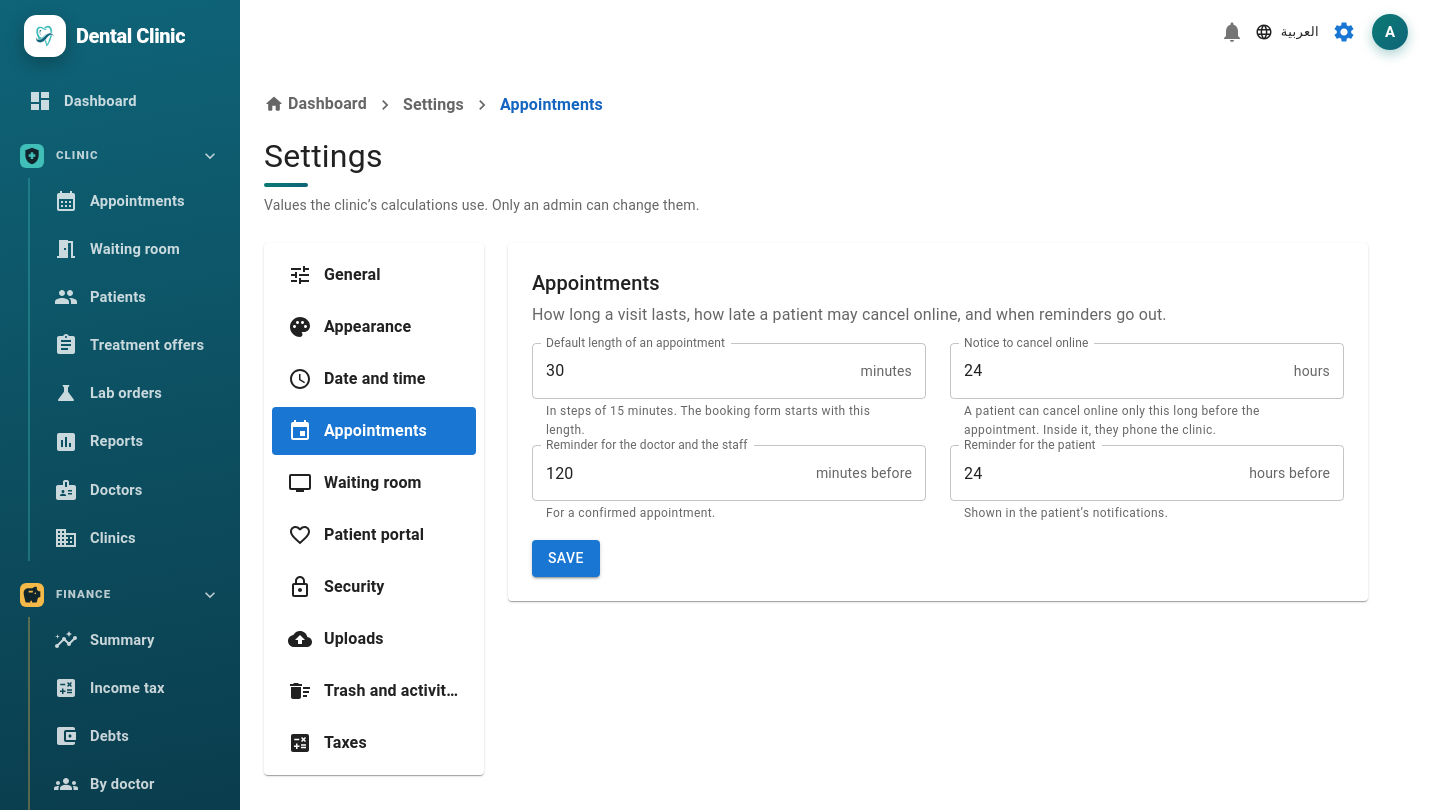
Test case: the settings pages for how the clinic runs › refuses a value the server would refuse, naming it, and sends nothing
Replace the text in the number field labelled "Default length of an appointment" with "20" at [696, 370], box [532,342,861,398]
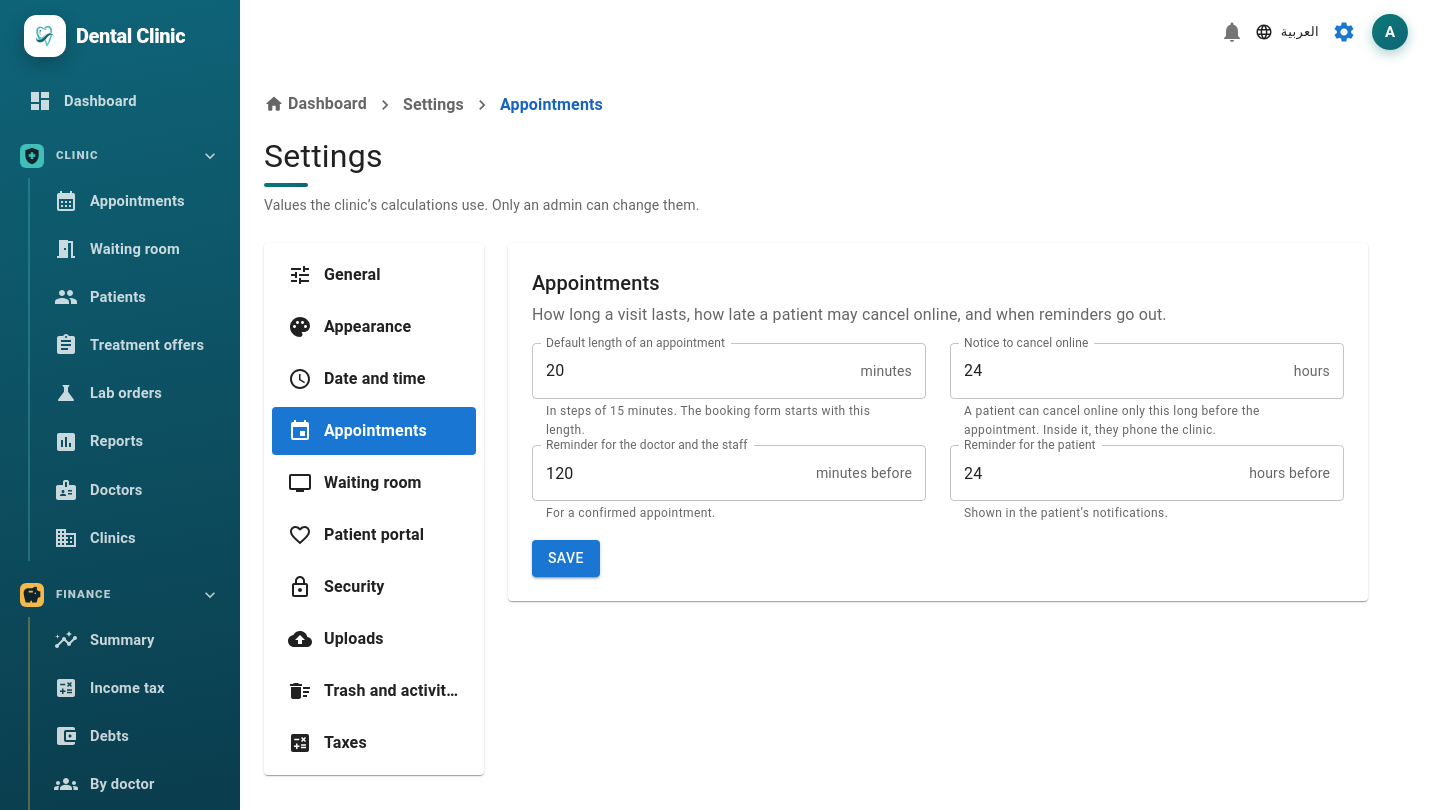
Replace the text in the number field labelled "Reminder for the patient" with "500" at [1100, 473], box [950,445,1249,501]
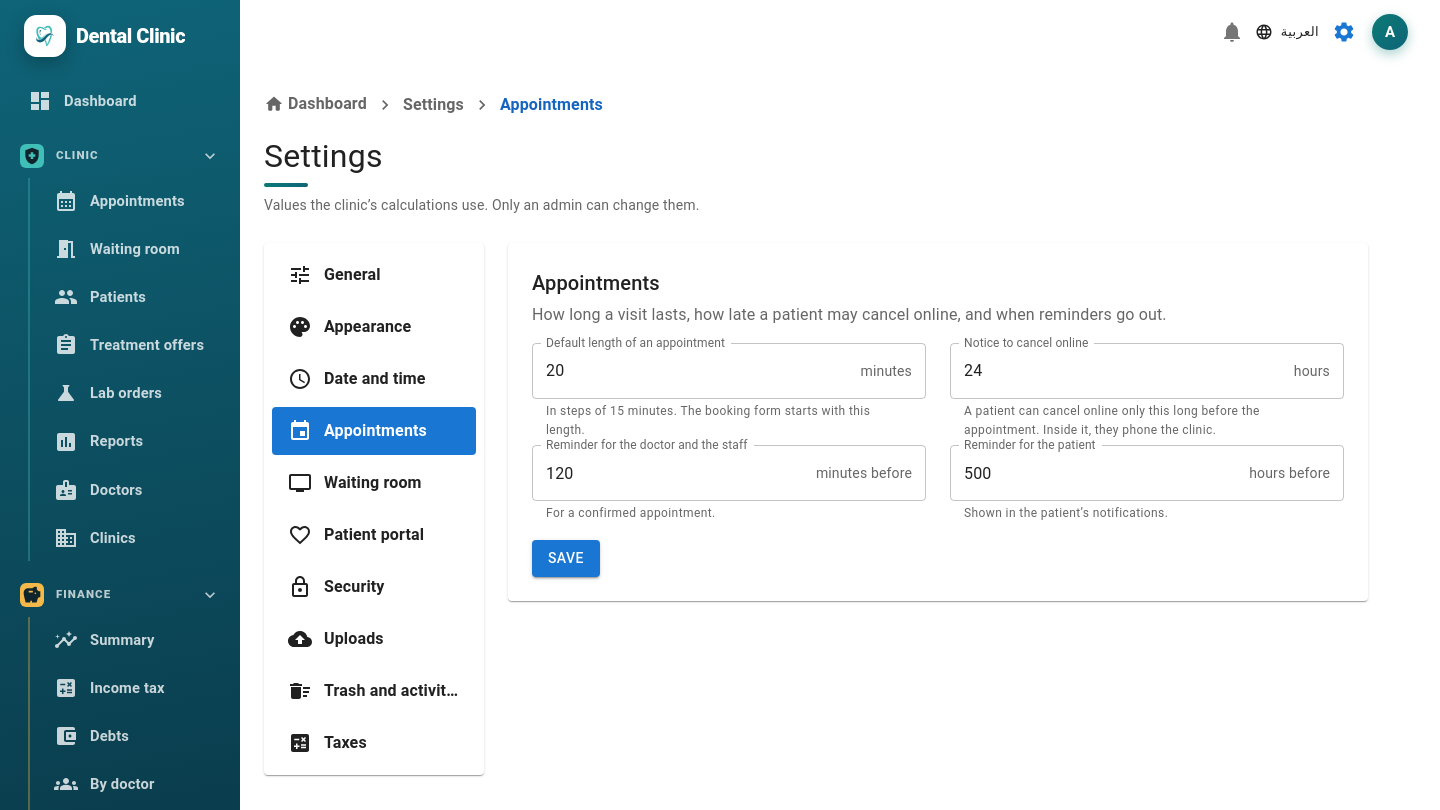
Click the button "Save" at [566, 559], box [532,540,600,577]
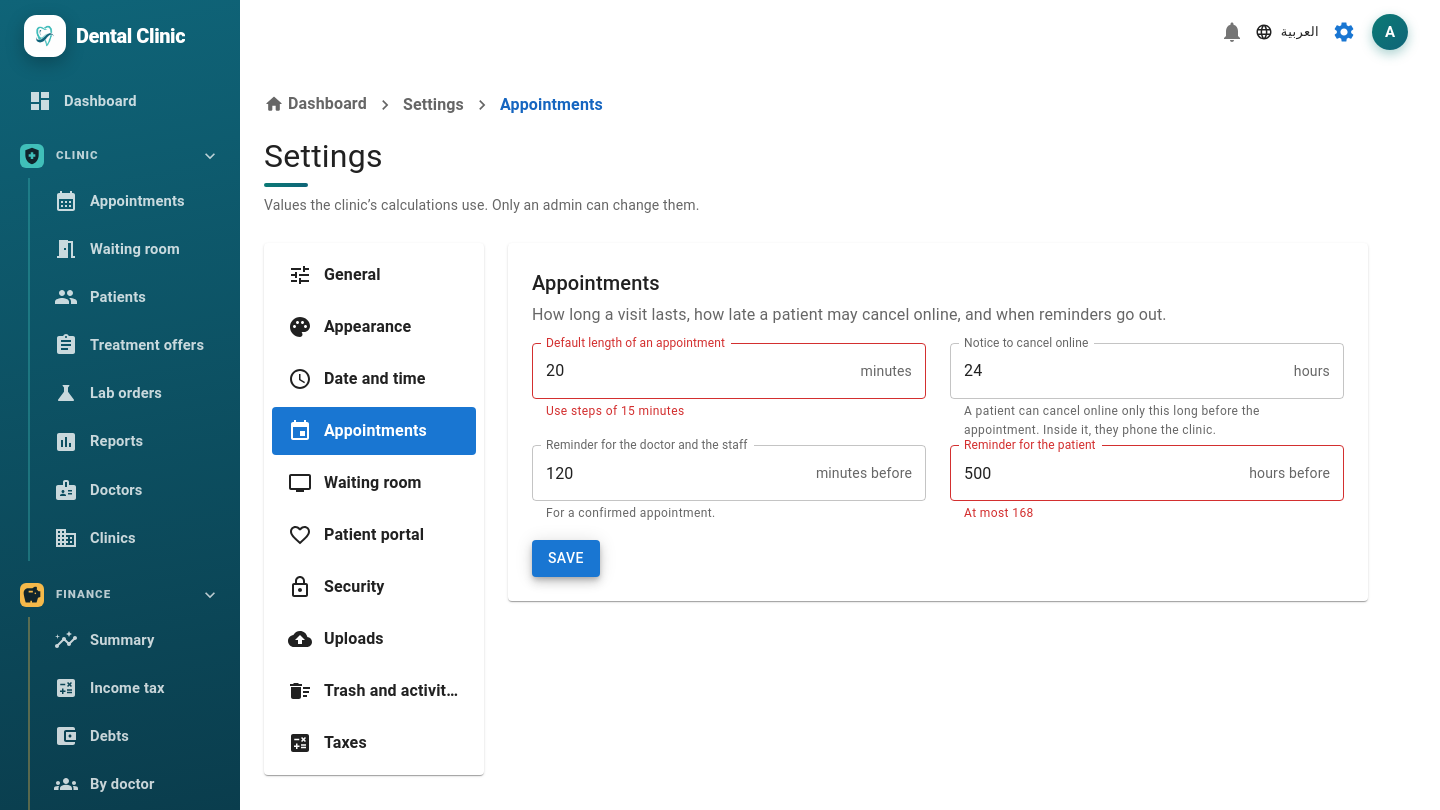
Check: the text "Use steps of 15 minutes" is shown, box [546,404,684,418]
Check: the text "At most 168" is shown, box [964,506,1034,520]
